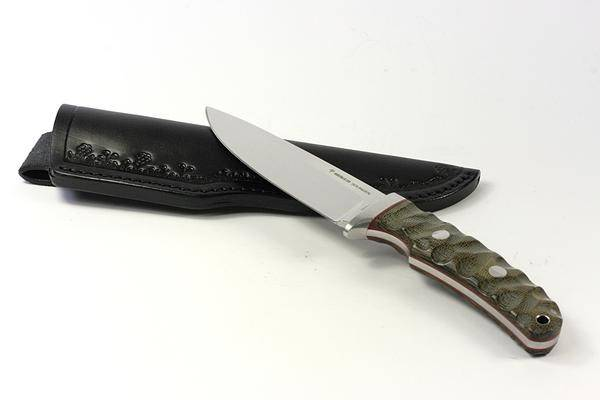knife: (200, 98, 402, 245)
